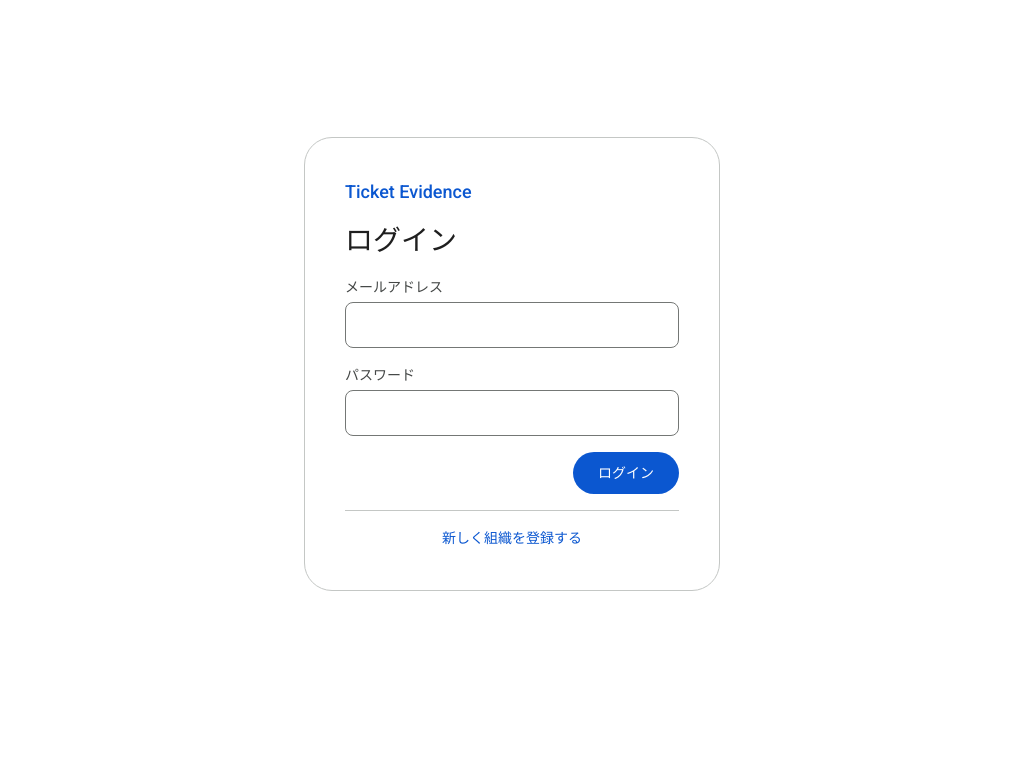
Scenario: ログイン › ログインしていなければログイン画面を出し、ログインすると元の画面に進む
This screenshot has width=1024, height=768.
Type "member@example.com" into the field labelled "メールアドレス" at (512, 325), box [345,302,679,348]
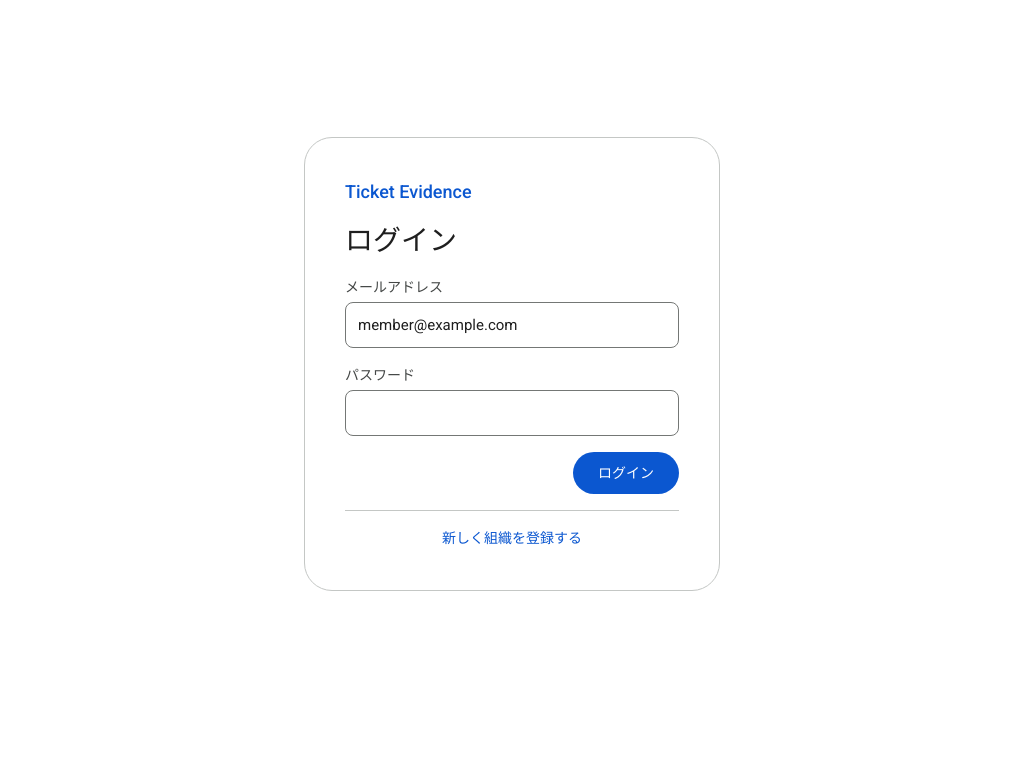
Type "password123" into the password field labelled "パスワード" at (512, 413), box [345,390,679,436]
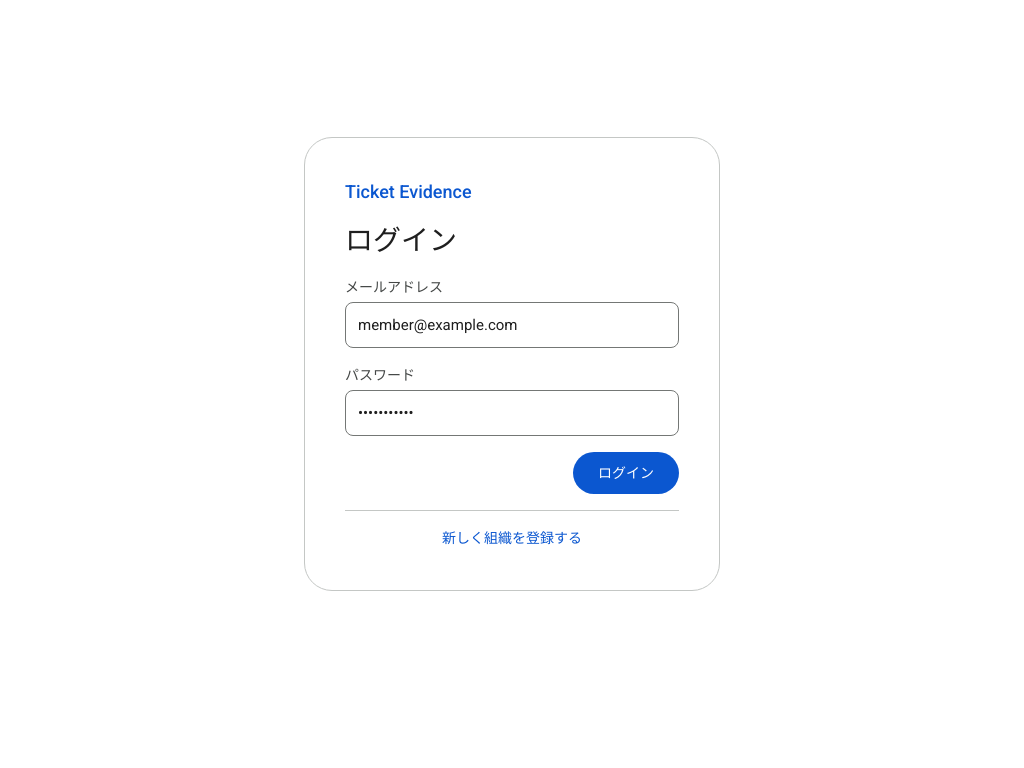
Click the button "ログイン" at (626, 473), box [573,452,679,494]
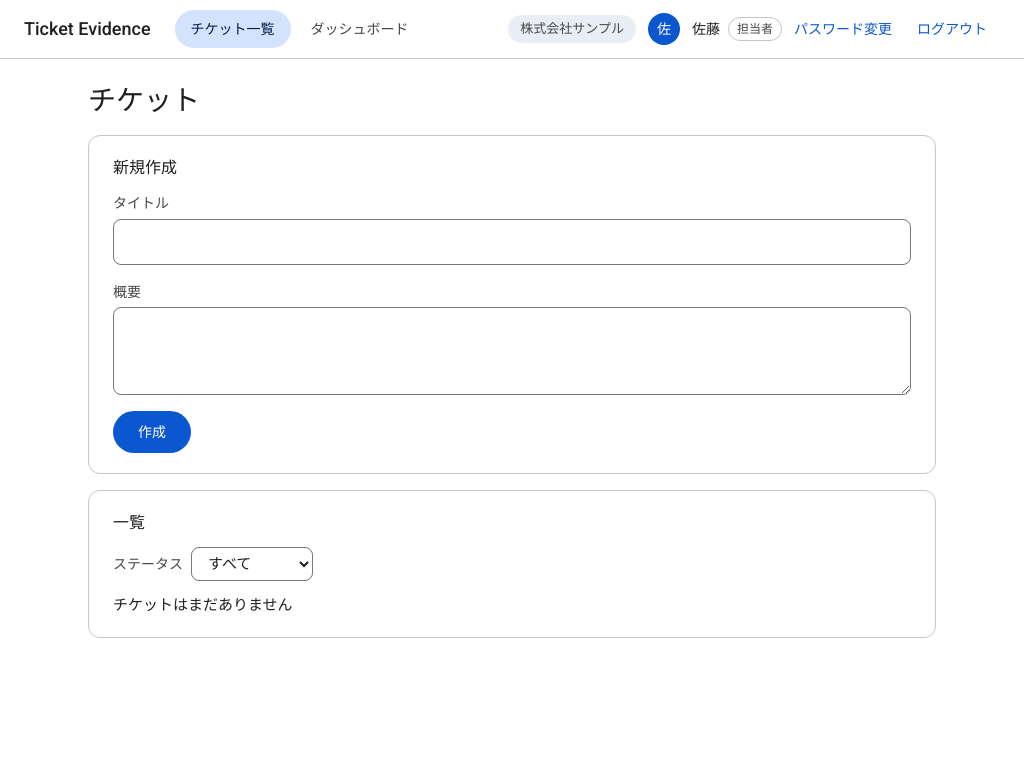
Now the text "チケットはまだありません" is shown, box [113,596,293,614]
Now the text "佐藤" is shown, box [692,18,720,40]
